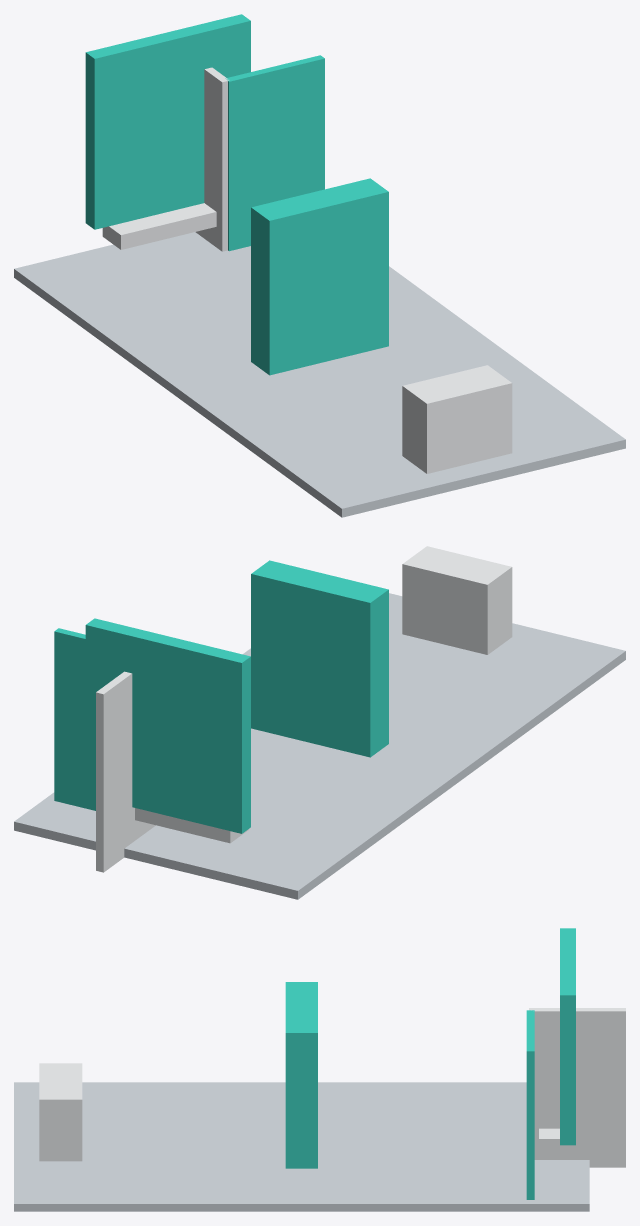
The picture shows the model from 3 angles, top to bottom: view 1: azimuth 30°, elevation 25°; view 2: azimuth 150°, elevation 25°; view 3: azimuth 270°, elevation 25°; orthographic projection. The views are drawn at different scales.
Visible parts, largest first — view 1: Exhibition Booth Concept; view 2: Exhibition Booth Concept; view 3: Exhibition Booth Concept.
Part boxes in pixels (box(x1,y1,x2,y2)): Exhibition Booth Concept: box(14, 14, 625, 517); Exhibition Booth Concept: box(14, 546, 625, 899); Exhibition Booth Concept: box(14, 928, 625, 1211).
Bounding box in the file's own units: 4 × 2.9 × 8.51.
